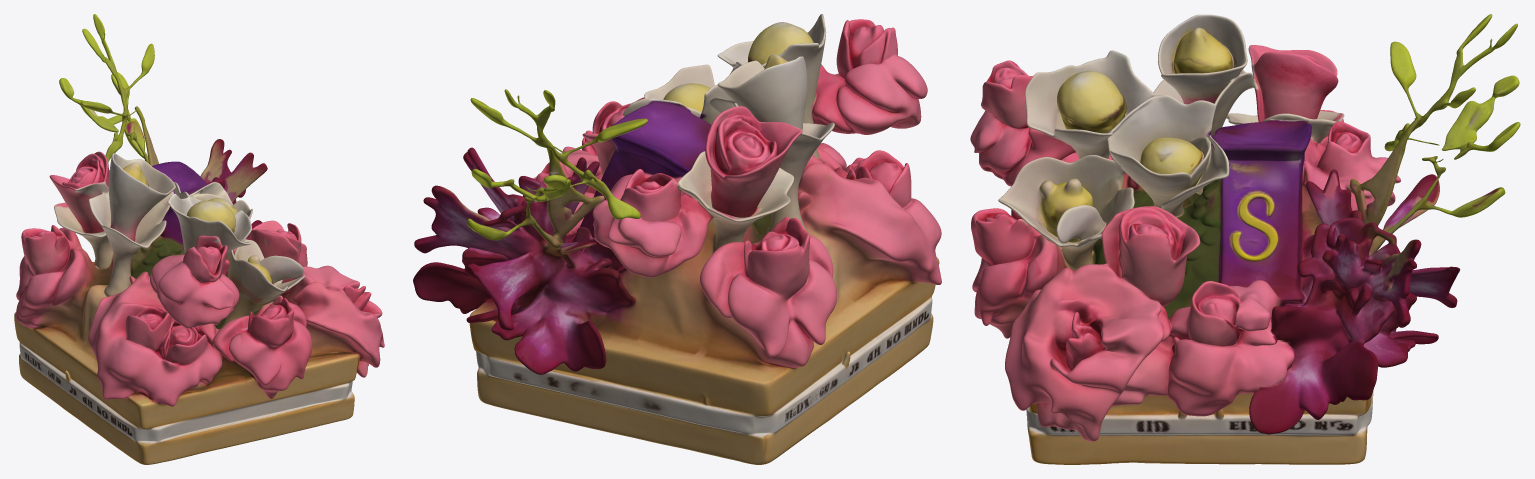
Rendered from flower-with-silk-compressed.glb.
The picture shows the model from 3 angles, left to right: view 1: azimuth 30°, elevation 25°; view 2: azimuth 150°, elevation 25°; view 3: azimuth 270°, elevation 25°; orthographic projection. The views are drawn at different scales.
Visible parts, largest first — view 1: tripo_node_9ecee8b3-2824-45c4-b2de-e4b2f31be108; view 2: tripo_node_9ecee8b3-2824-45c4-b2de-e4b2f31be108; view 3: tripo_node_9ecee8b3-2824-45c4-b2de-e4b2f31be108.
Part boxes in pixels (x1=…): tripo_node_9ecee8b3-2824-45c4-b2de-e4b2f31be108: x1=14, y1=14, x2=384, y2=464; tripo_node_9ecee8b3-2824-45c4-b2de-e4b2f31be108: x1=413, y1=14, x2=941, y2=464; tripo_node_9ecee8b3-2824-45c4-b2de-e4b2f31be108: x1=970, y1=14, x2=1520, y2=464.
Bounding box in the file's own units: 0.7798 × 0.7855 × 1.
1 material, 1 textured.
